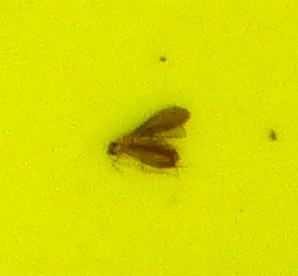Trichoptera: (100, 100, 198, 176)
